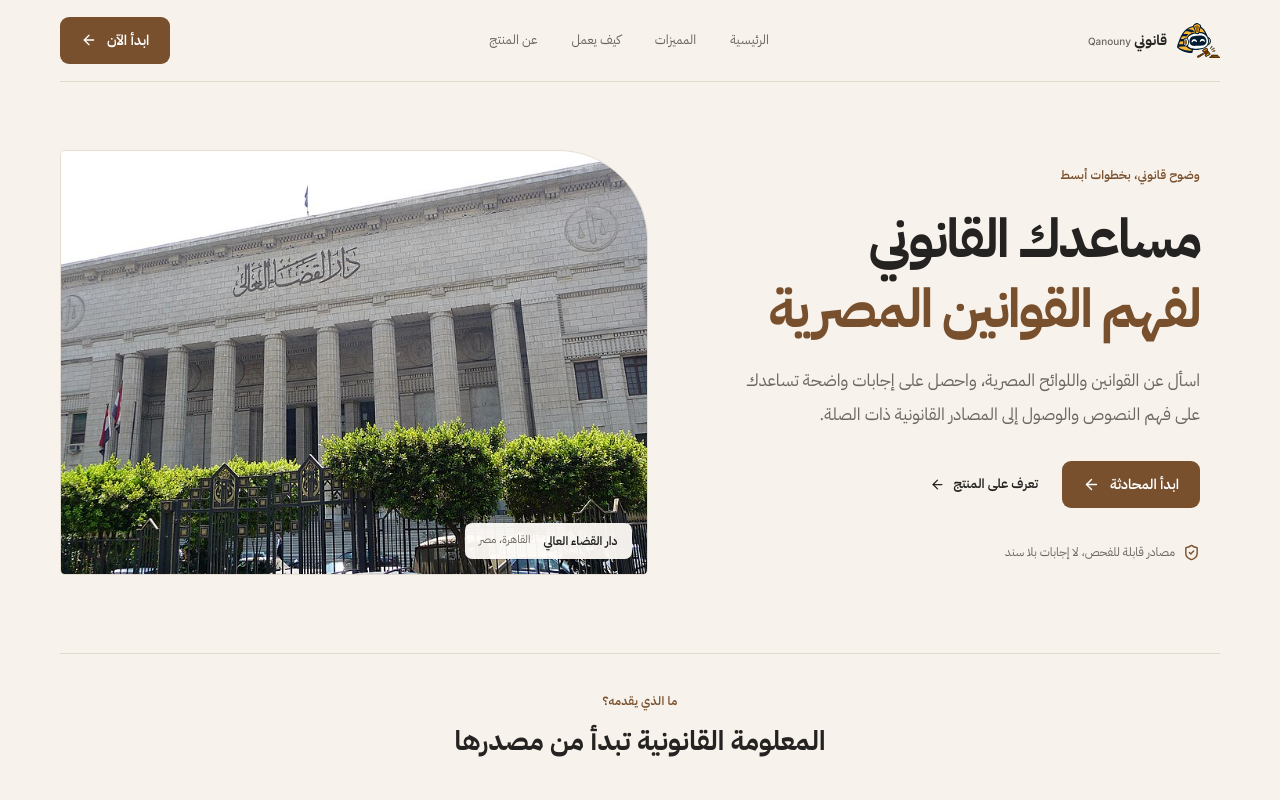
Test: Legal assistant frontend › does not send an empty message
Step 1. Click the button "ابدأ الآن" → {"x": 115, "y": 40}, box [60, 17, 170, 64]
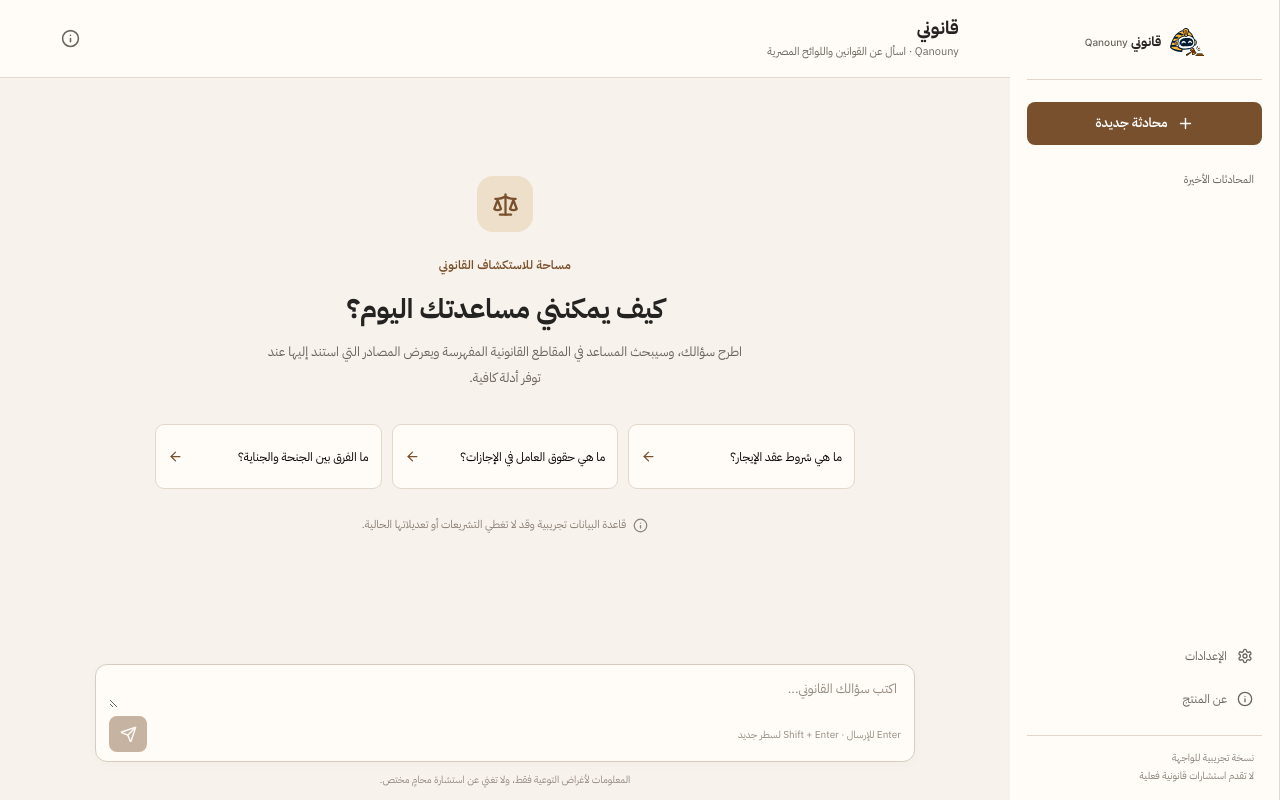
Check: the button named "إرسال السؤال" is disabled, box [109, 716, 147, 752]
